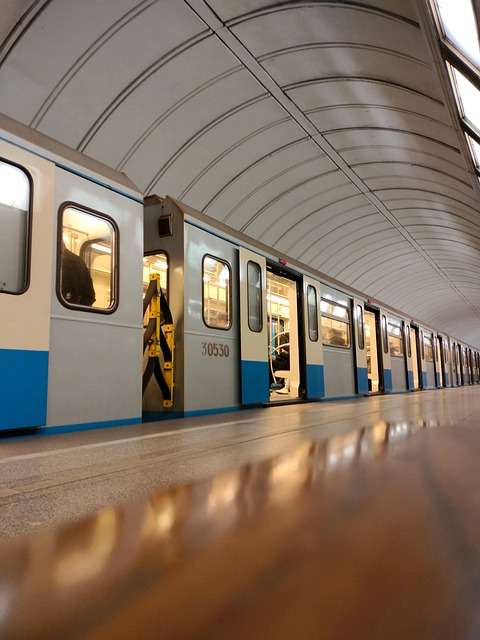train1: (3, 114, 477, 434)
